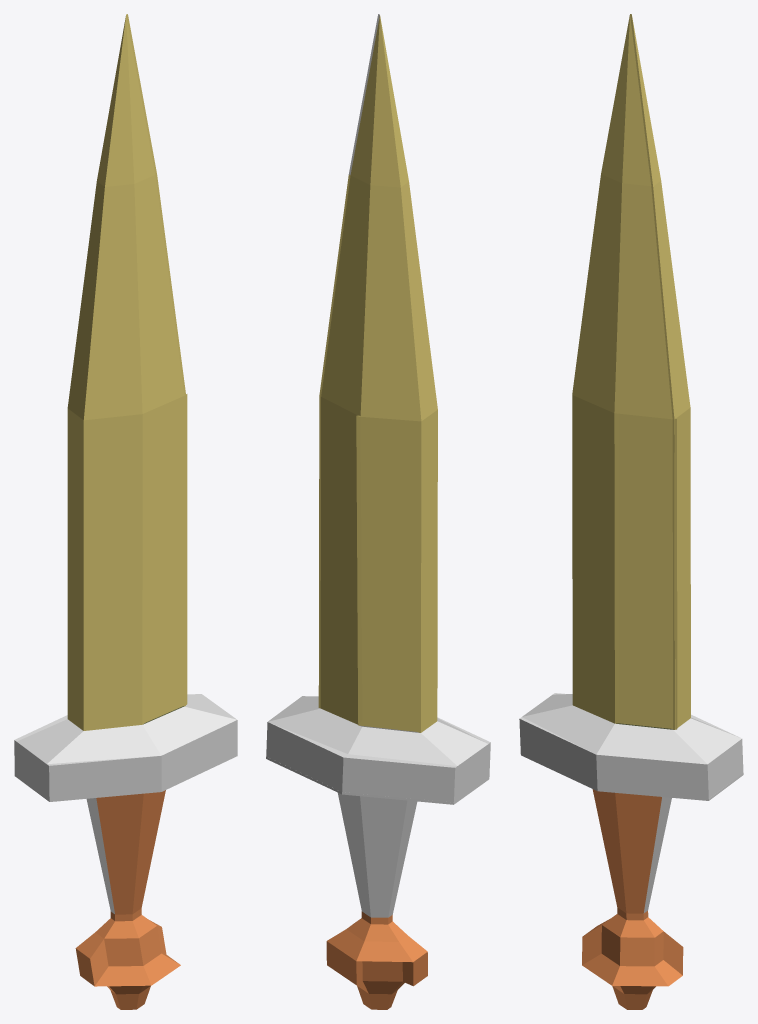
The model's file is Sword.fbx.
3 renders of one model, left to right at view 1: azimuth 30°, elevation 25°; view 2: azimuth 150°, elevation 25°; view 3: azimuth 330°, elevation 25°, orthographic.
Visible parts, largest first — view 1: Cylinder; view 2: Cylinder; view 3: Cylinder.
Boxes of the visible parts, x1,y1,x2,y2 form: Cylinder: (14,14,237,1009); Cylinder: (266,14,490,1009); Cylinder: (519,14,743,1009).
Size of the model in its own units: 298 by 1492 by 193.
